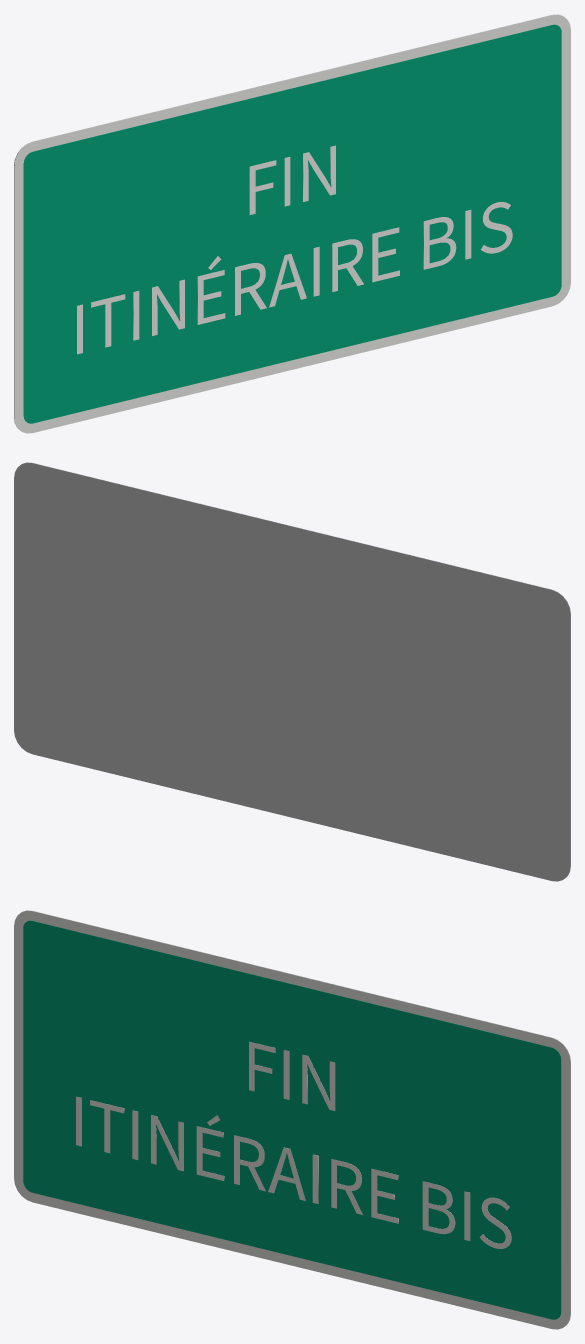
The picture shows the model from 3 angles, top to bottom: view 1: azimuth 30°, elevation 25°; view 2: azimuth 150°, elevation 25°; view 3: azimuth 330°, elevation 25°; orthographic projection.
Visible parts, largest first — view 1: D69b_fond01, D69b_cadre00, D69b_txt03, D69b_txt02, D69b_dos; view 2: D69b_dos; view 3: D69b_fond01, D69b_cadre00, D69b_txt03, D69b_txt02, D69b_dos.
Boxes of the visible parts, x1=… form: D69b_fond01: x1=23, y1=24, x2=561, y2=423; D69b_cadre00: x1=14, y1=14, x2=570, y2=433; D69b_txt03: x1=77, y1=202, x2=512, y2=354; D69b_txt02: x1=249, y1=145, x2=335, y2=214; D69b_dos: x1=14, y1=14, x2=562, y2=426; D69b_dos: x1=14, y1=462, x2=570, y2=881; D69b_fond01: x1=23, y1=920, x2=561, y2=1319; D69b_cadre00: x1=14, y1=910, x2=570, y2=1329; D69b_txt03: x1=76, y1=1096, x2=511, y2=1248; D69b_txt02: x1=249, y1=1041, x2=335, y2=1110; D69b_dos: x1=22, y1=910, x2=570, y2=1322.
Bounding box in the file's own units: 1.2 × 0.6 × 0.0029.
